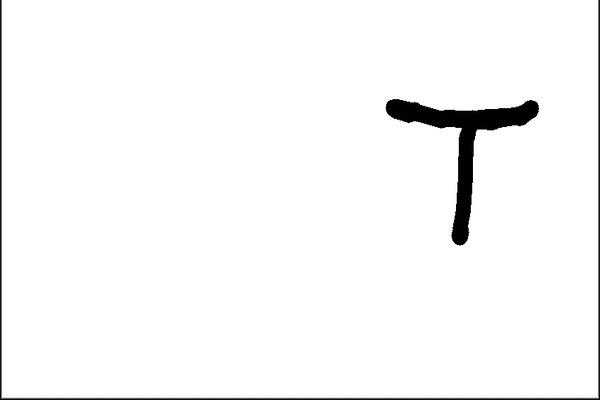T: (377, 81, 544, 250)
